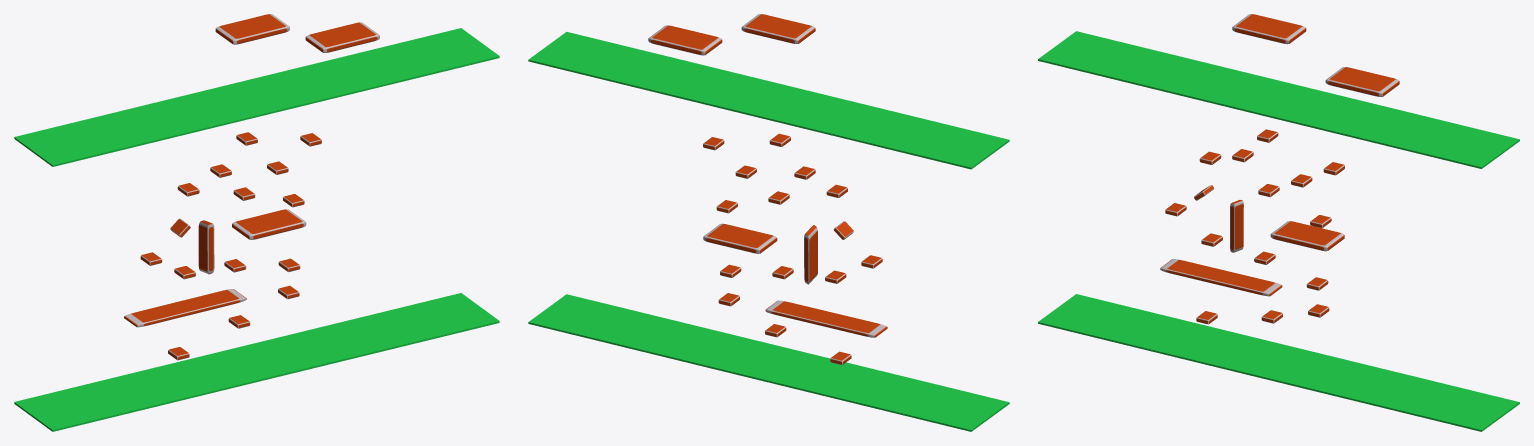
Rendered from stage.obj.
3 views of the same model, side by side, from view 1: azimuth 30°, elevation 25°; view 2: azimuth 150°, elevation 25°; view 3: azimuth 330°, elevation 25° (orthographic).
Bounding box in the file's own units: 1064 × 775 × 159.
